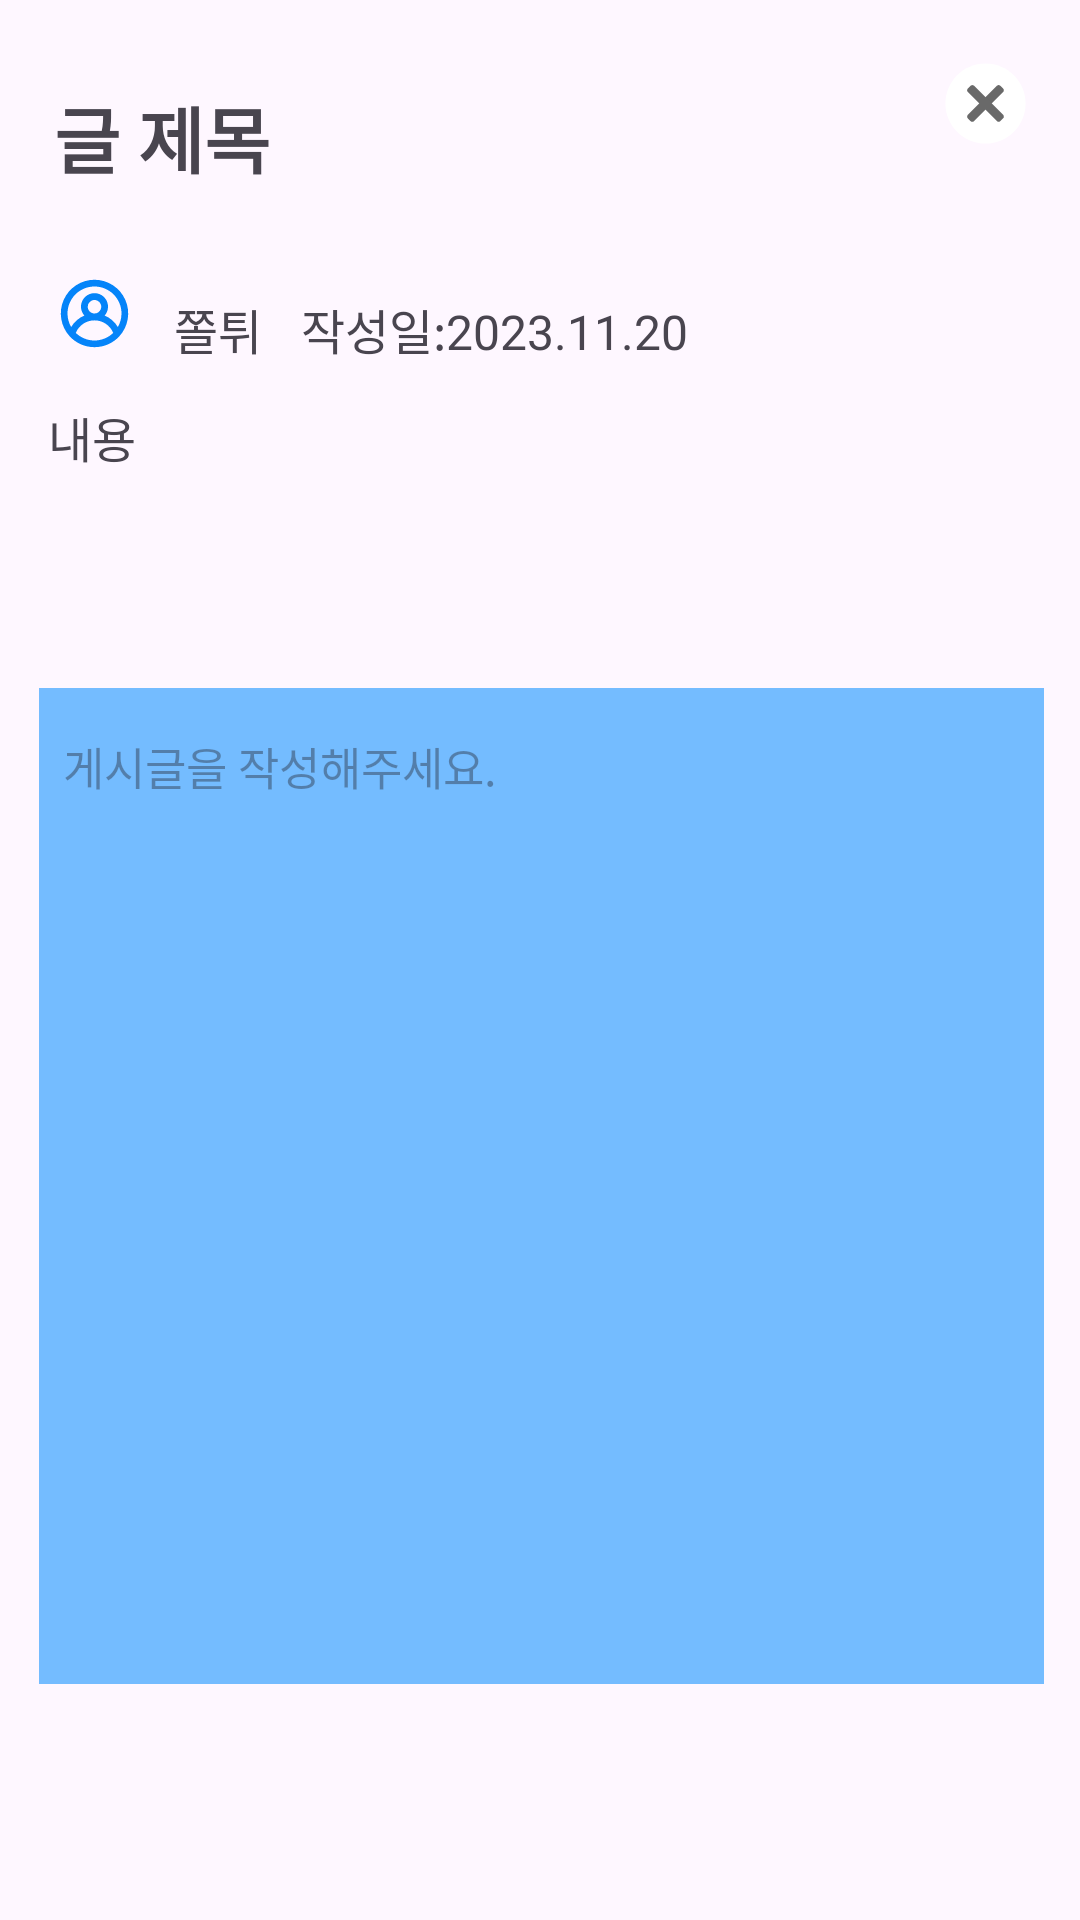

Named icons in this screenshot (1080w x 1920h) and their centers, (x=x, y=y):
close: (x=985, y=103)
user: (x=94, y=313)
